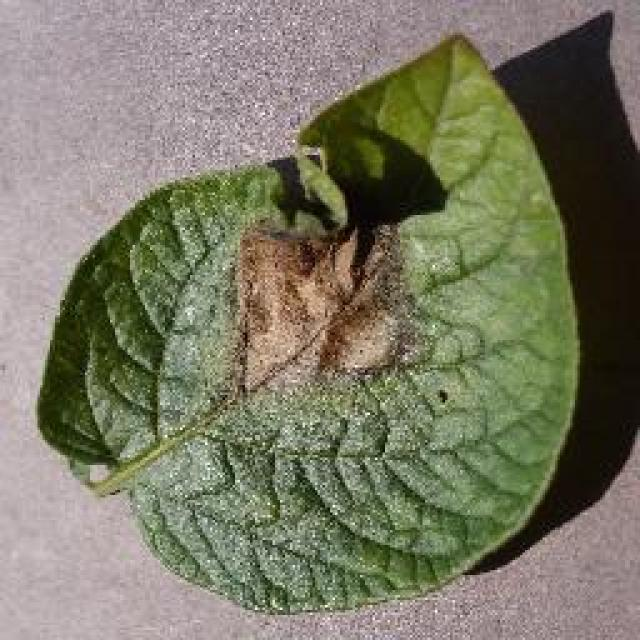late_blight: (33, 25, 585, 617)
